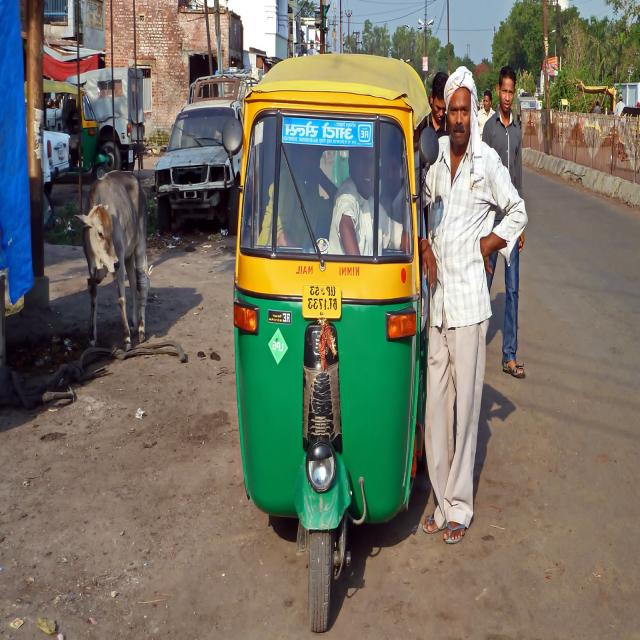autorickshaw: (223, 61, 429, 633), (45, 84, 78, 170), (80, 87, 109, 177), (420, 129, 439, 173)
car: (155, 80, 245, 234), (80, 67, 145, 169)
